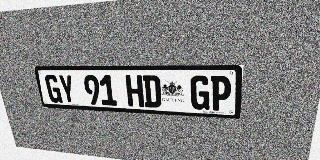1: (98, 75, 117, 106)
9: (83, 75, 102, 105)
D: (142, 75, 161, 108)
G: (190, 75, 210, 110), (44, 75, 63, 103)
H: (125, 75, 144, 107)
P: (210, 76, 232, 111)
Y: (58, 75, 76, 104)
